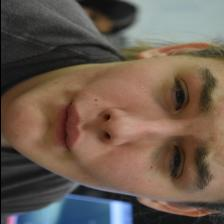cone: (98, 108, 186, 146)
